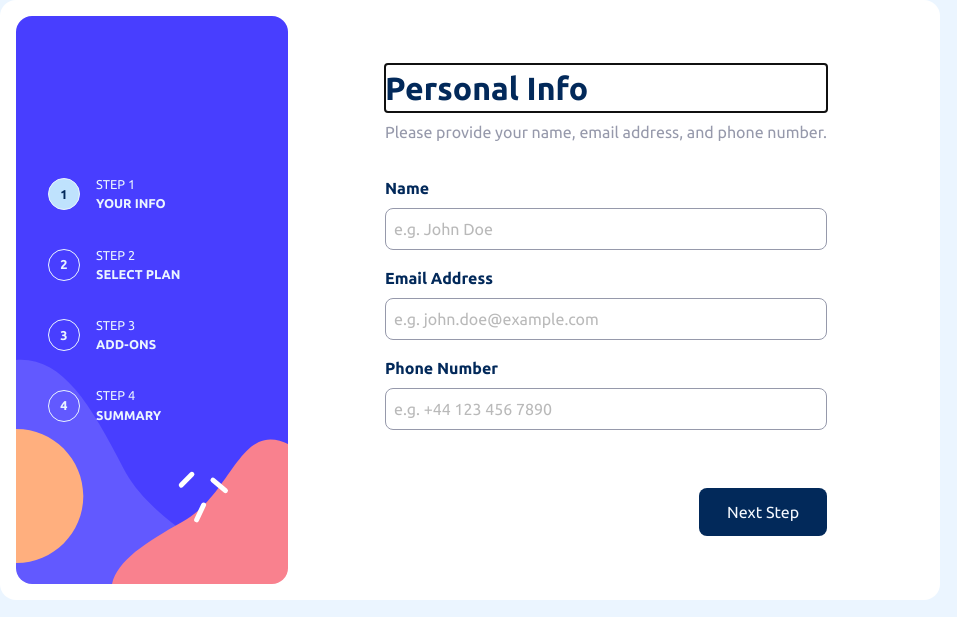
Test case: MultiStepForm › Flow 1: validation on step 1 › shows a phone format error when the phone number is too short
Type "Jane Doe" into the field labelled "Name" at (606, 229), box [385,208,827,250]
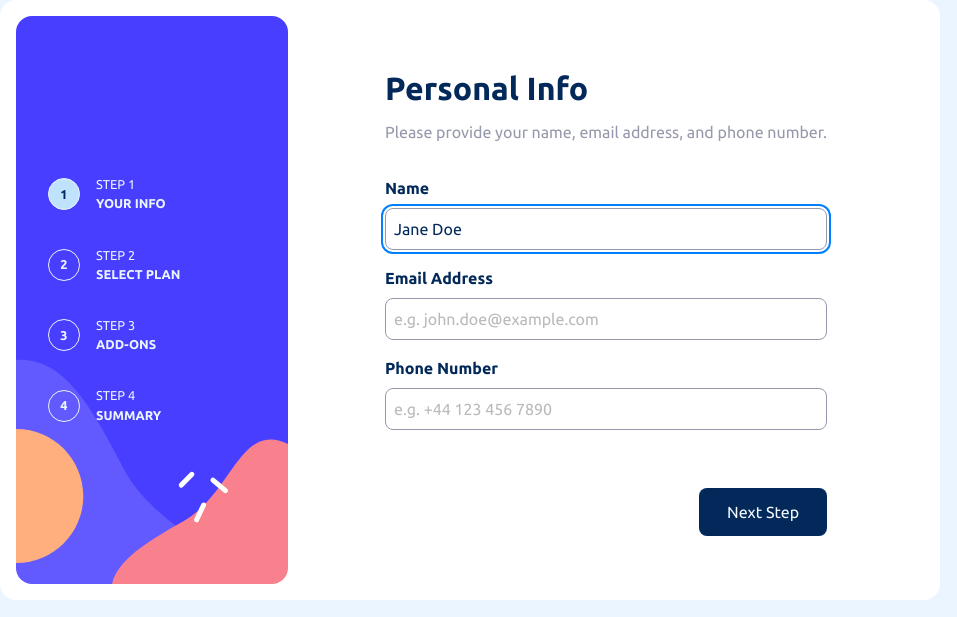
Type "jane@example.com" into the field labelled "Email Address" at (606, 319), box [385,298,827,340]
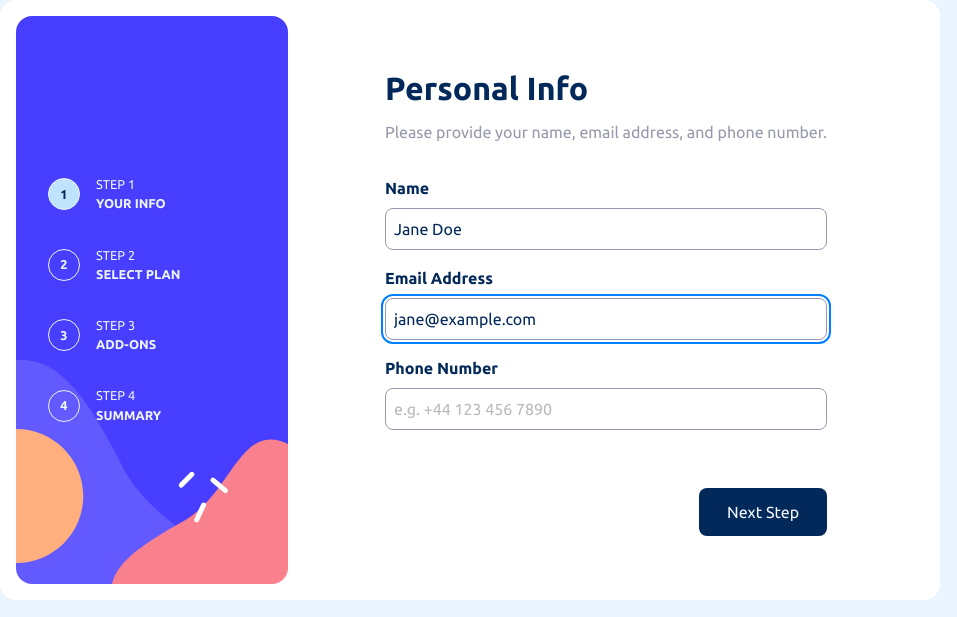
Type "123" into the field labelled "Phone Number" at (606, 409), box [385,388,827,430]
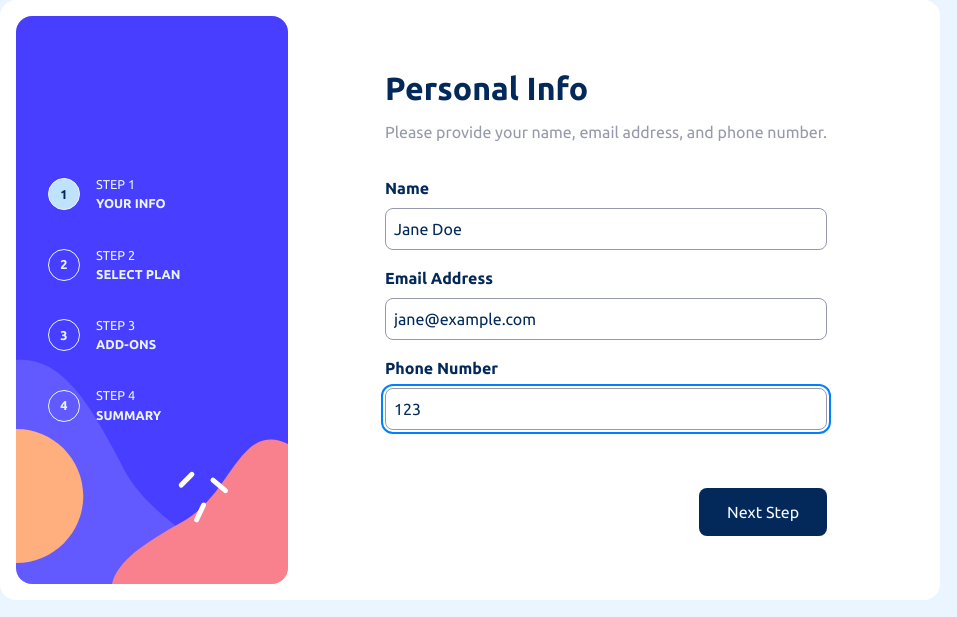
Click the button "Next Step" at (763, 512), box [699,488,827,536]
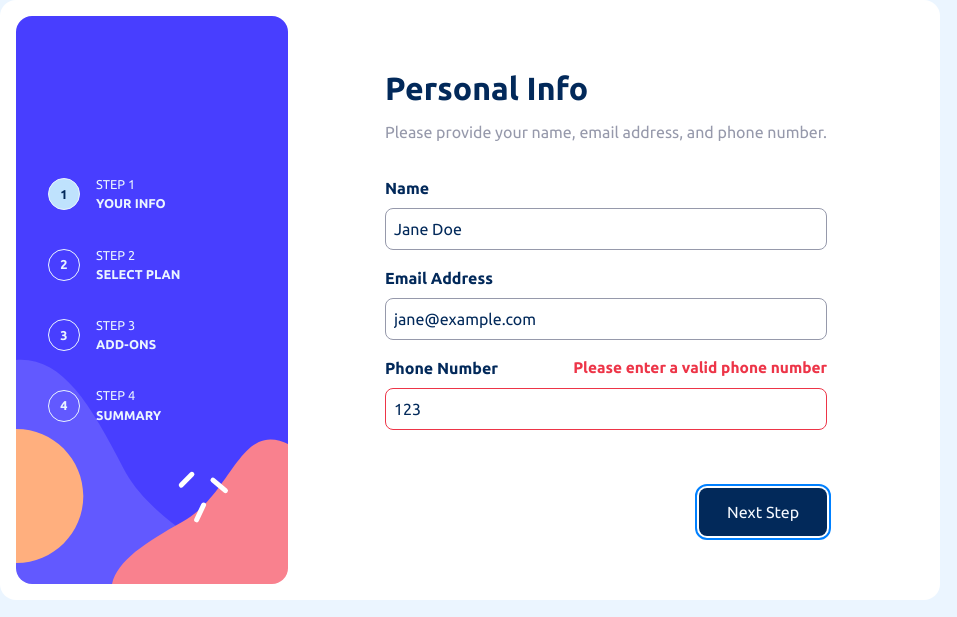
Result: the text "Please enter a valid phone number" is shown at [573,356,827,380]
